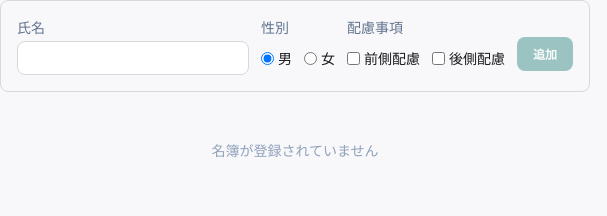
Test case: StudentTable › 氏名を入力して追加ボタンを押すと名簿に追加される
Type "佐藤 次郎" into the field labelled "氏名" at (133,58), box [17,41,249,75]
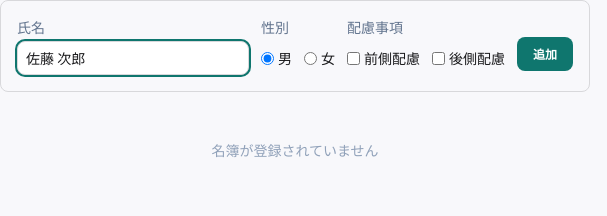
Click the button "追加" at (545,54), box [517,37,573,71]
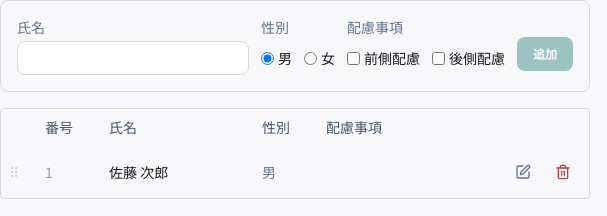
Result: the text "佐藤 次郎" is shown at [97,146,250,198]
